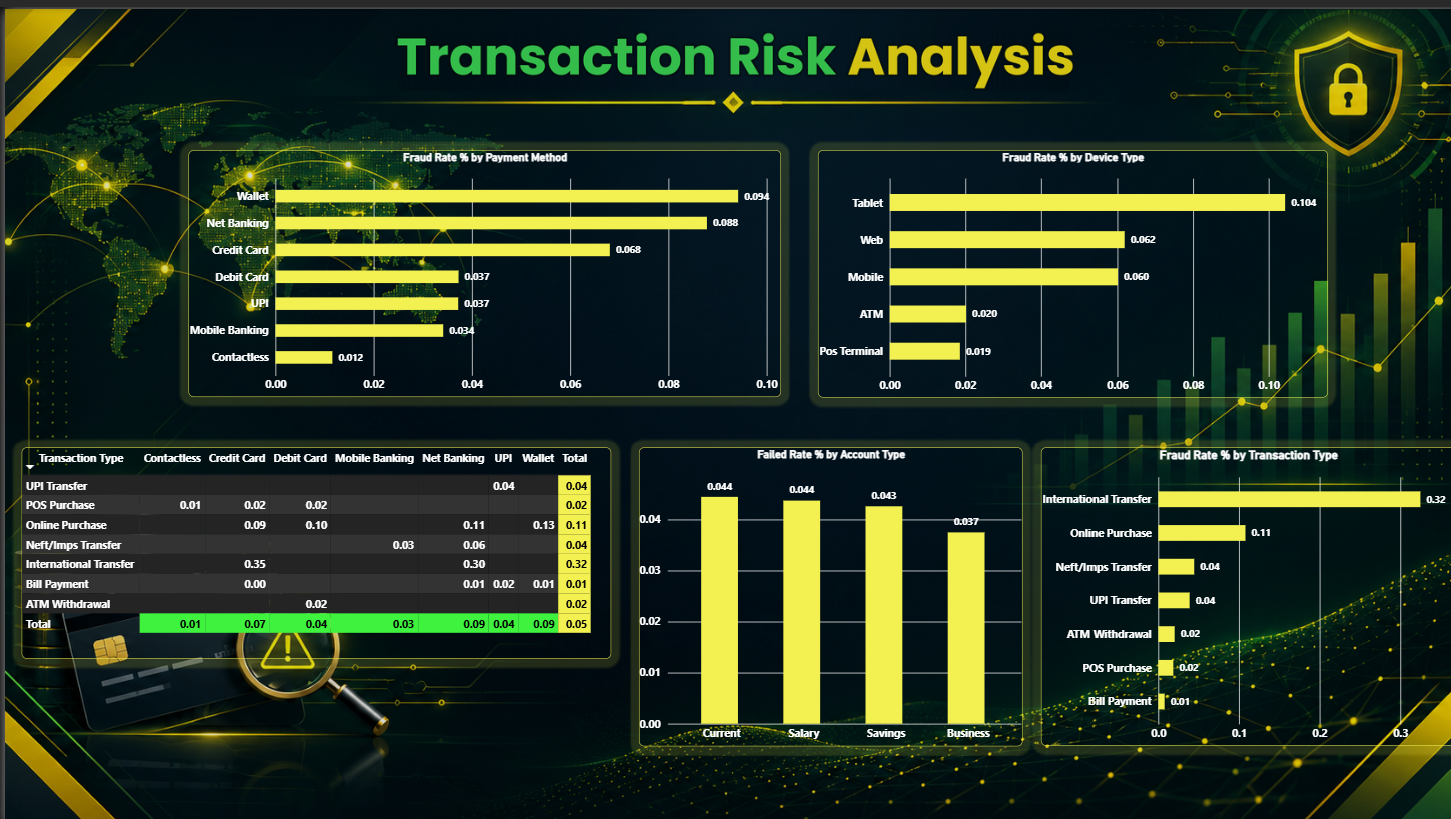

The page's visual inventory and layout, read from the dashboard file:
{"tool":"powerbi","page":{"name":"Transaction Risk Analysis","canvas":[1920,1080],"ordinal":1},"visuals":[{"type":"clusteredBarChart","fields":{"Category":["Transactions.Transaction Type"],"Y":["Transactions.Fraud Rate %"]},"box":[1366.7,578.9,544.4,393.3],"z":0},{"type":"clusteredBarChart","fields":{"Category":["Transactions.Payment Method"],"Y":["Transactions.Fraud Rate %"]},"box":[242.2,186.7,781.1,325.6],"z":1000},{"type":"clusteredBarChart","fields":{"Category":["Transactions.Device Type"],"Y":["Transactions.Fraud Rate %"]},"box":[1072.2,186.7,671.1,326.7],"z":2000},{"type":"clusteredColumnChart","fields":{"Category":["Transactions.Account Type"],"Y":["Transactions.Failed Rate %"]},"box":[836,578,506,394],"z":3000},{"type":"pivotTable","title":"Fraud rate % by Payment Method","fields":{"Columns":["Transactions.Payment Method"],"Rows":["Transactions.Transaction Type"],"Values":["Transactions.Fraud Rate %"]},"box":[22.5,578.8,777.5,278.8],"z":4000}]}

Visuals, with their boxes in screenshot pixels (x1, y1, x2, y2), scaled from the page's 1920x1080 canvas onto the 1451x819 screenshot:
clusteredBarChart - Transactions.Transaction Type x Transactions.Fraud Rate %: Rect(1033, 439, 1444, 737)
clusteredBarChart - Transactions.Payment Method x Transactions.Fraud Rate %: Rect(183, 142, 773, 388)
clusteredBarChart - Transactions.Device Type x Transactions.Fraud Rate %: Rect(810, 142, 1317, 389)
clusteredColumnChart - Transactions.Account Type x Transactions.Failed Rate %: Rect(632, 438, 1014, 737)
"Fraud rate % by Payment Method" pivotTable: Rect(17, 439, 605, 650)
